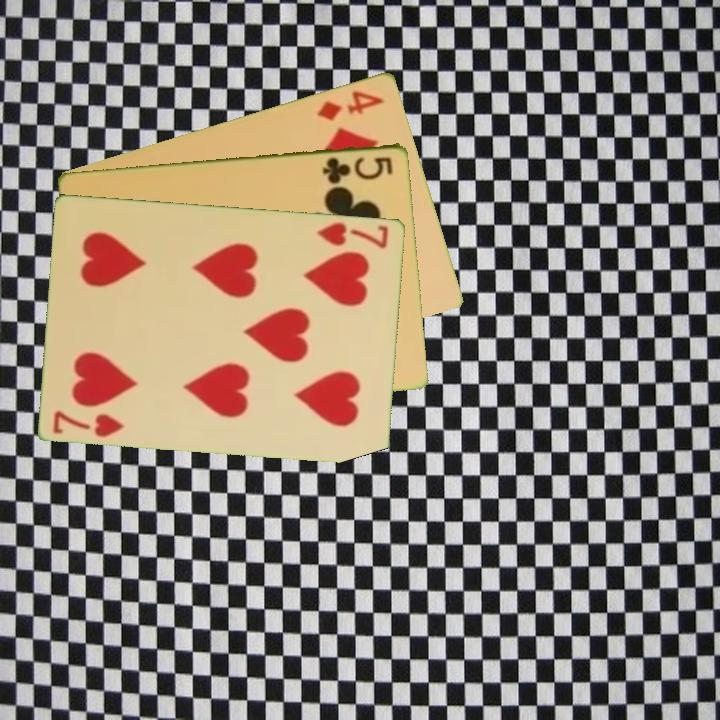4d: (314, 86, 387, 124)
5c: (319, 152, 396, 187)
7h: (313, 218, 392, 251), (50, 407, 128, 440)
